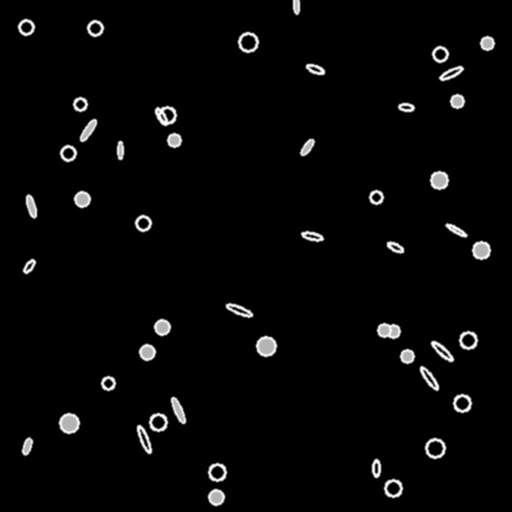pseudomonas: (430, 340, 454, 362), (419, 365, 439, 391), (78, 118, 98, 142), (136, 425, 152, 453), (225, 302, 253, 318), (170, 397, 186, 423), (438, 65, 464, 81), (445, 222, 467, 238), (299, 137, 315, 157), (25, 194, 37, 218), (154, 107, 168, 125), (305, 63, 325, 75), (22, 258, 36, 274), (21, 437, 33, 455), (302, 231, 322, 241), (387, 241, 403, 253), (372, 460, 380, 476), (398, 103, 414, 111), (117, 142, 123, 159), (293, 0, 299, 14)
synechocystis: (60, 414, 78, 432), (257, 337, 275, 355), (239, 33, 257, 51), (426, 439, 444, 457), (473, 242, 489, 258), (385, 480, 401, 496), (454, 395, 470, 411), (159, 107, 175, 123), (150, 414, 166, 430), (431, 172, 447, 188), (209, 464, 225, 480), (460, 332, 476, 348), (61, 146, 75, 160), (155, 320, 169, 334), (209, 490, 223, 504), (433, 47, 447, 61), (75, 192, 89, 206), (88, 21, 102, 35), (140, 345, 154, 359), (19, 20, 33, 34), (136, 216, 150, 230), (481, 37, 493, 49), (387, 325, 399, 337), (74, 98, 86, 110), (102, 377, 114, 389), (168, 134, 180, 146), (370, 191, 382, 203), (451, 95, 463, 107), (378, 324, 390, 336), (401, 350, 413, 362)
